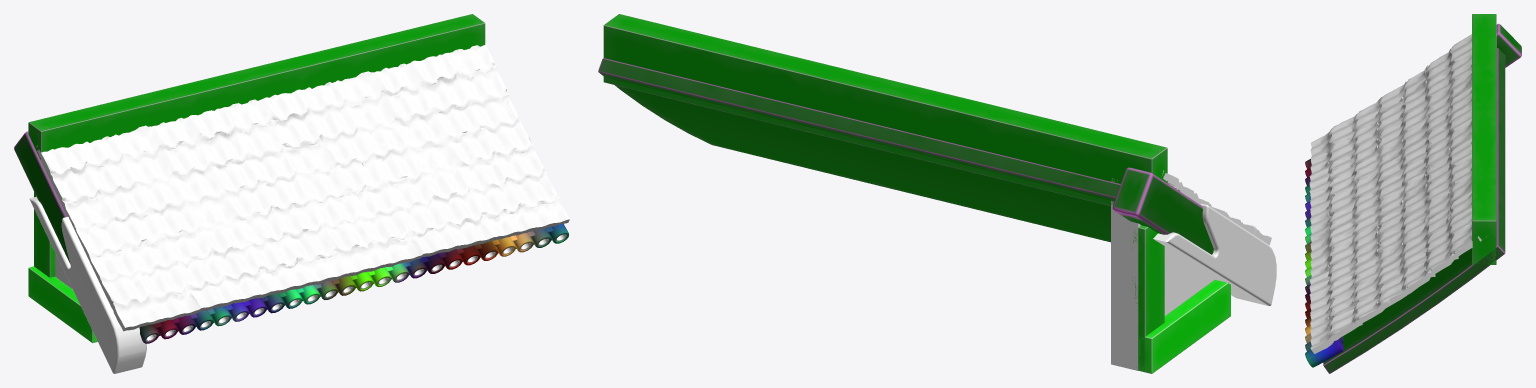
The model's file is roof_side_400x100_01_left.fbx.
3 views of the same model, side by side, from view 1: azimuth 30°, elevation 25°; view 2: azimuth 150°, elevation 25°; view 3: azimuth 270°, elevation 25° (orthographic). The views are drawn at different scales.
Visible parts, largest first — view 1: roof_side_400x100_01_left; view 2: roof_side_400x100_01_left; view 3: roof_side_400x100_01_left.
Part boxes in pixels (bbox=[...]): roof_side_400x100_01_left: bbox=[14, 14, 569, 373]; roof_side_400x100_01_left: bbox=[598, 14, 1276, 373]; roof_side_400x100_01_left: bbox=[1305, 14, 1521, 373].
Bounding box in the file's own units: 4.05 × 1.59 × 1.77.
